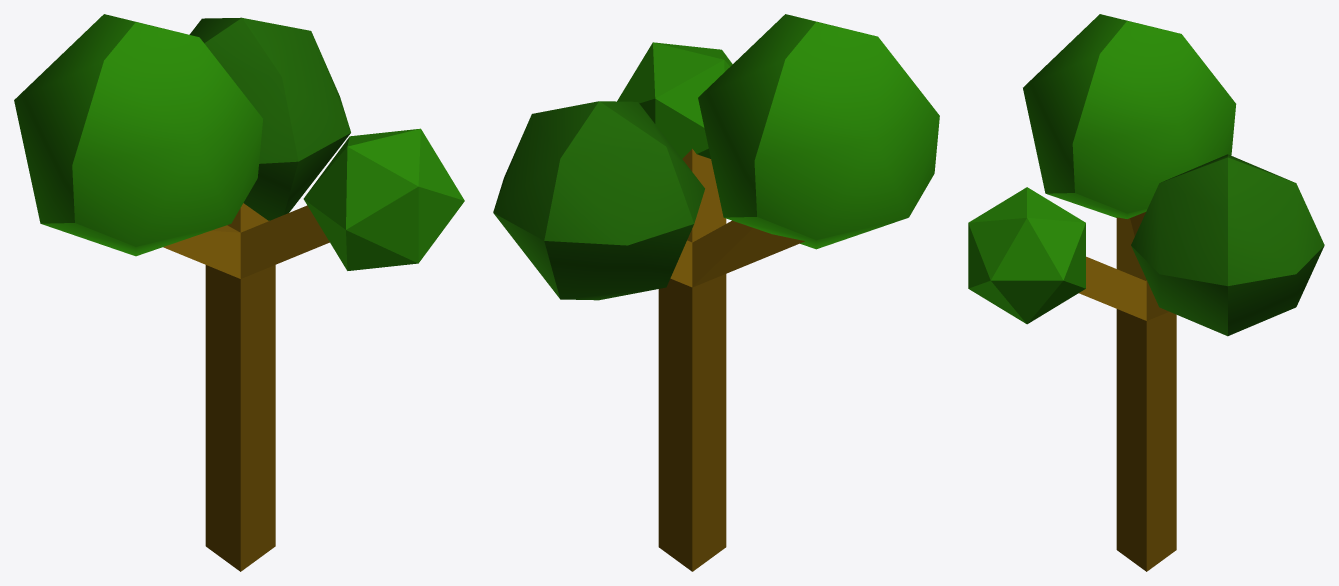
Rendered from Tree3.fbx.
The picture shows the model from 3 angles, left to right: view 1: azimuth 30°, elevation 25°; view 2: azimuth 150°, elevation 25°; view 3: azimuth 270°, elevation 25°; orthographic projection. The views are drawn at different scales.
Parts seen in each view (by area): view 1: Kugel_2, Zylinder, Kugel_1, Kugel; view 2: Kugel_2, Kugel_1, Zylinder, Kugel; view 3: Kugel_2, Kugel_1, Zylinder, Kugel.
Part boxes in pixels (x1=…): Kugel_2: x1=14, y1=14, x2=262, y2=256; Zylinder: x1=163, y1=203, x2=330, y2=571; Kugel_1: x1=189, y1=17, x2=350, y2=220; Kugel: x1=303, y1=128, x2=464, y2=270; Kugel_2: x1=698, y1=14, x2=939, y2=249; Kugel_1: x1=493, y1=101, x2=704, y2=300; Zylinder: x1=658, y1=149, x2=804, y2=571; Kugel: x1=617, y1=42, x2=732, y2=158; Kugel_2: x1=1023, y1=14, x2=1236, y2=218; Kugel_1: x1=1131, y1=154, x2=1324, y2=336; Zylinder: x1=1079, y1=212, x2=1176, y2=571; Kugel: x1=968, y1=187, x2=1085, y2=324.
Bounding box in the file's own units: 512 × 778 × 515.
